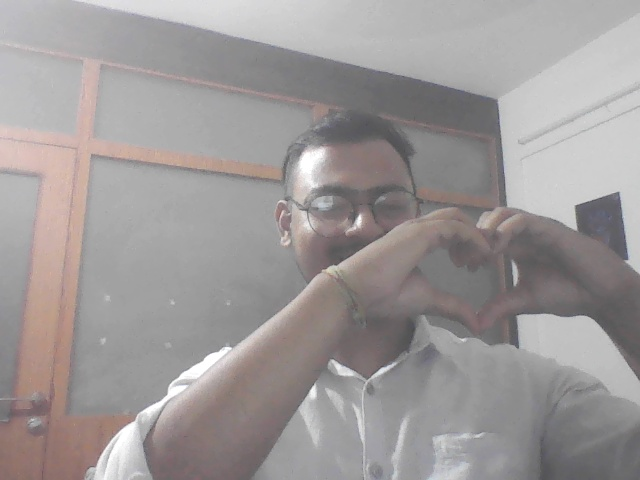Heart: (375, 201, 600, 338)
